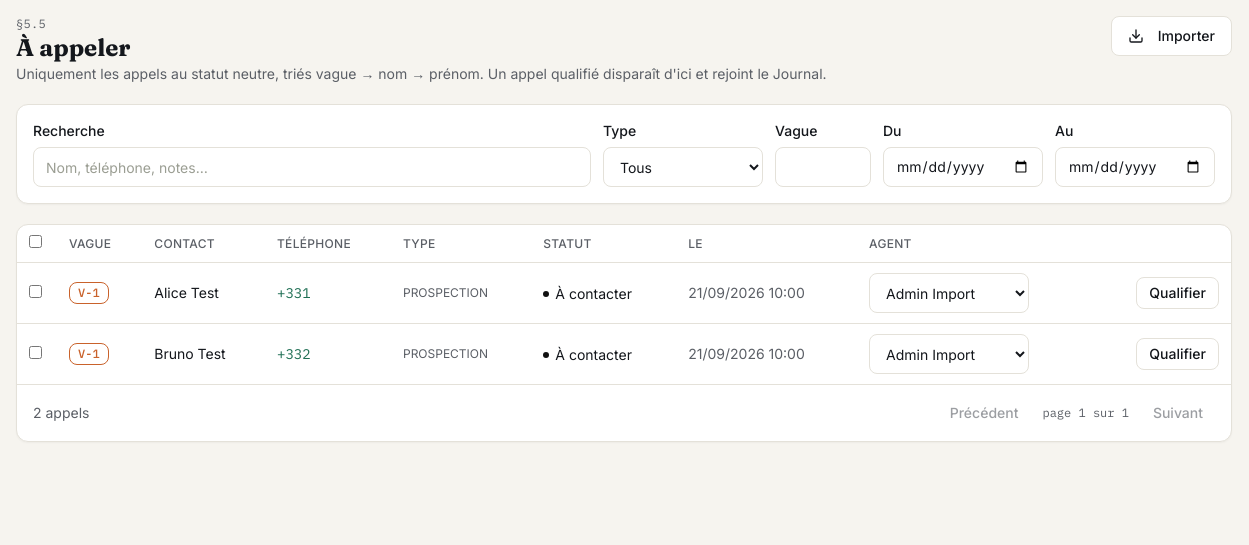
Test: /calls — attribution d'un appel par l'admin › sélection multiple : « Tout sélectionner » puis « Attribuer à… » réattribue tout d'un coup
Expected: the text "Alice Test" is shown, [142,262,265,324]
Click the checkbox named "Tout sélectionner sur cette page" at (36, 242), box [29,235,42,248]
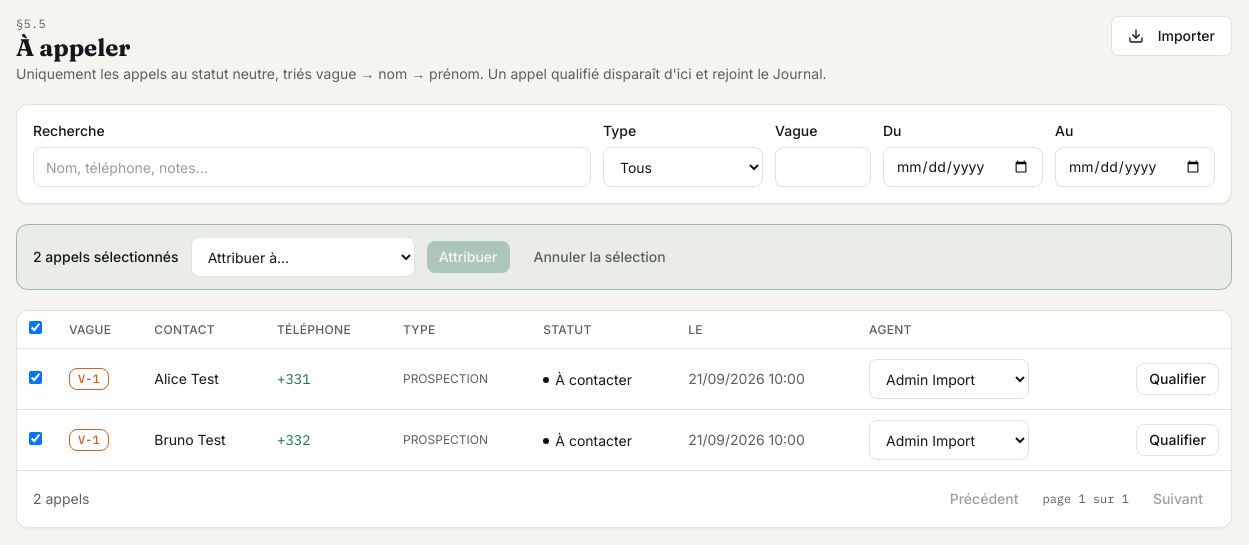
Expected: the text "2 appels sélectionnés" is shown, [33,247,179,267]
Expected: the button "Attribuer" is disabled, [427,241,510,273]
Select "Ana Calliste" in the dropdown named "Attribuer à" at (303, 257), box [191,237,415,277]
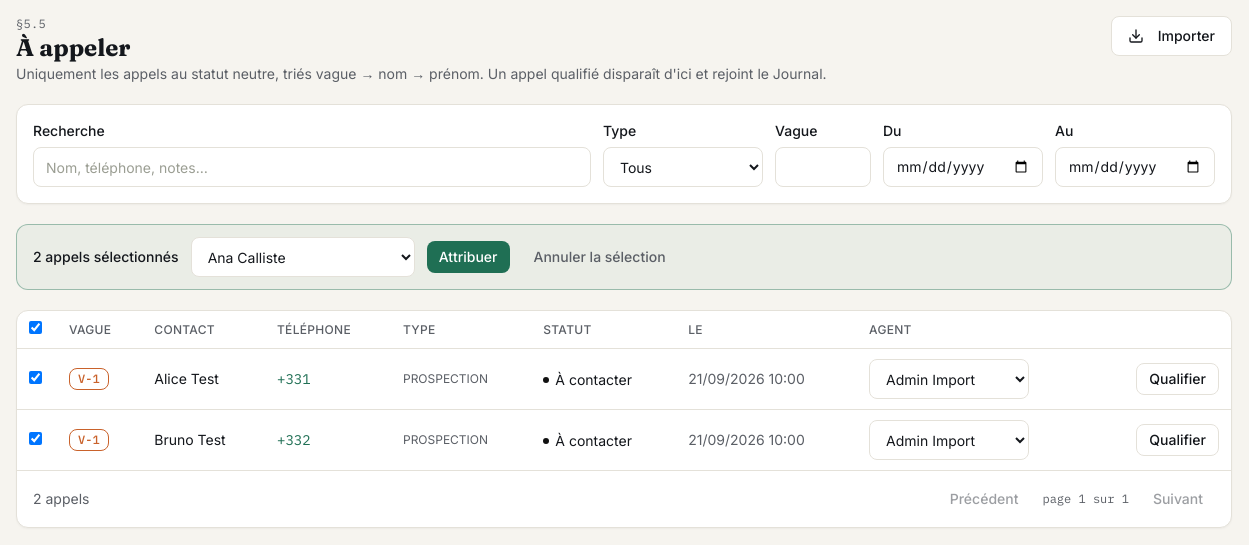
Click the button "Attribuer" at (468, 257), box [427,241,510,273]
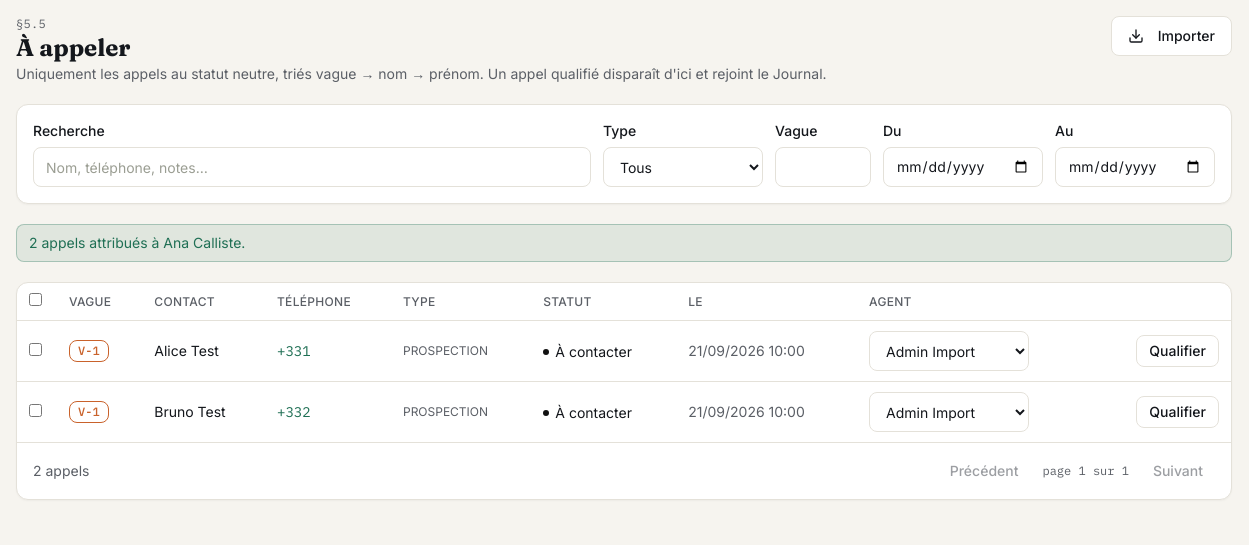
Expected: the text "2 appels attribués à Ana Calliste." is shown, [16,224,1232,262]
Expected: the text "2 appels sélectionnés" is gone
